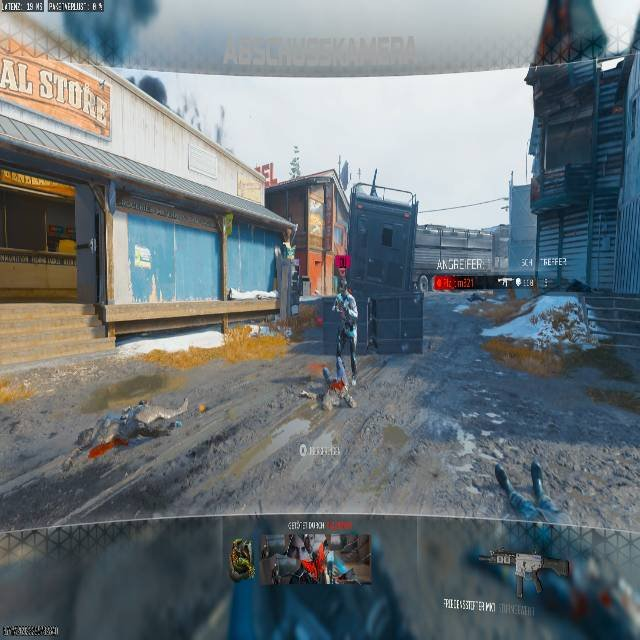player: (326, 256, 358, 381), (282, 259, 306, 319)
